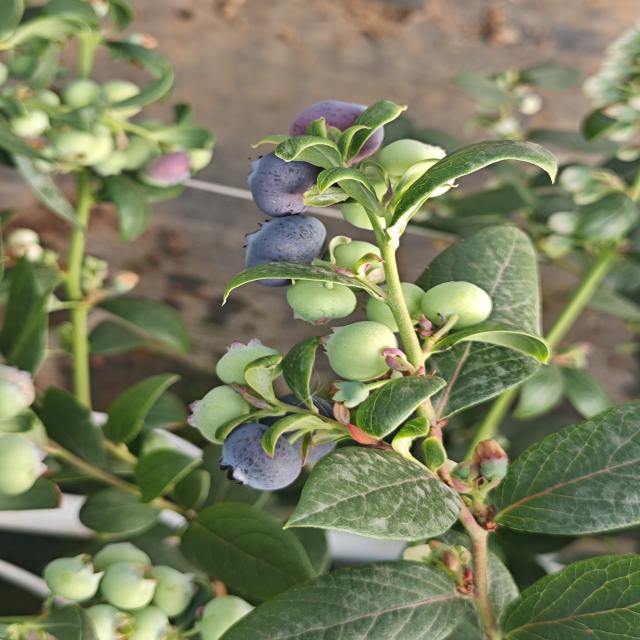ripe: (246, 140, 336, 220), (262, 386, 347, 463), (220, 422, 304, 492), (232, 214, 322, 278), (292, 104, 391, 159)
